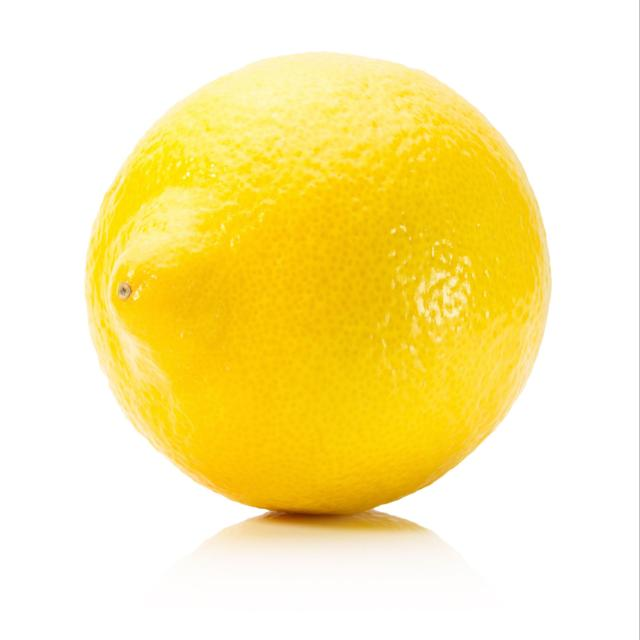lemon: (80, 48, 558, 521)
